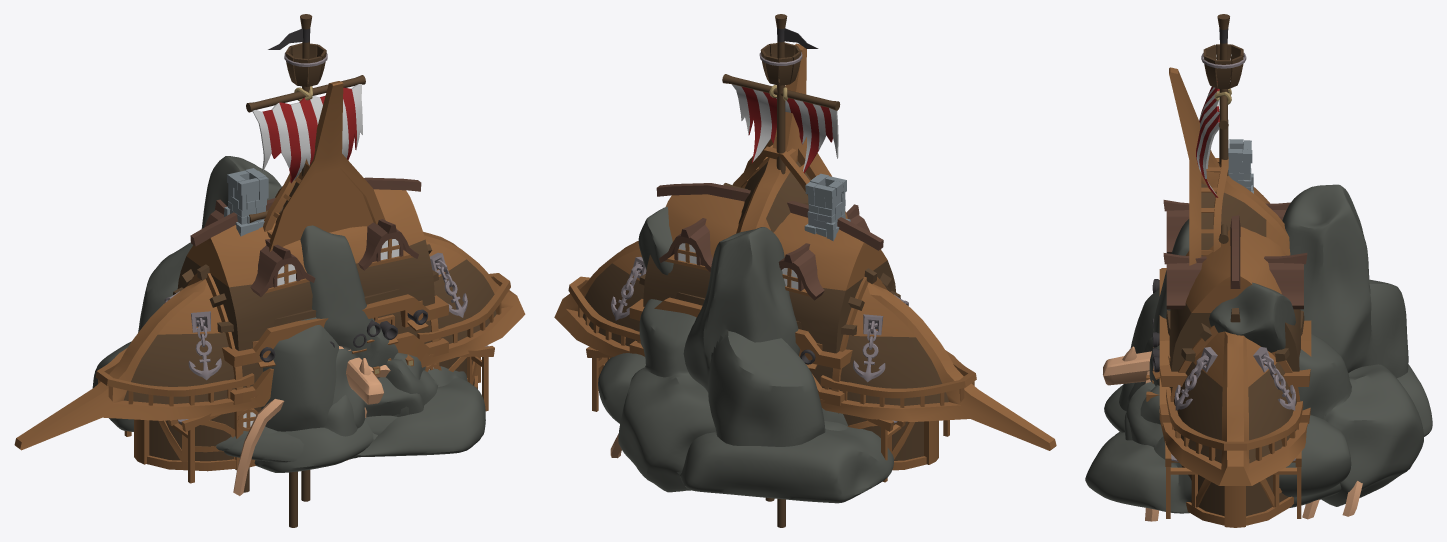
Rendered from qprops.glb.
3 renders of one model, left to right at view 1: azimuth 30°, elevation 25°; view 2: azimuth 150°, elevation 25°; view 3: azimuth 270°, elevation 25°, orthographic. The views are drawn at different scales.
Parts seen in each view (by area): view 1: Environment_House1, Environment_House3, Environment_Cliff2, Environment_Cliff4, Environment_House2, Environment_Cliff3, Environment_Cliff1, Environment_LargeBones; view 2: Environment_Cliff2, Environment_House1, Environment_House3, Environment_House2, Environment_Cliff4; view 3: Environment_House1, Environment_Cliff2, Environment_Cliff4, Environment_House3, Environment_House2, Environment_LargeBones, Environment_Cliff3, Environment_Cliff1.
Part boxes in pixels (x1,y1,x2,y2): Environment_House1: (14, 168, 525, 471); Environment_House3: (124, 14, 494, 483); Environment_Cliff2: (92, 156, 397, 451); Environment_Cliff4: (224, 359, 485, 462); Environment_House2: (263, 81, 385, 251); Environment_Cliff3: (300, 225, 398, 459); Environment_Cliff1: (254, 353, 425, 472); Environment_LargeBones: (233, 357, 390, 495); Environment_Cliff2: (598, 227, 893, 503); Environment_House1: (554, 173, 1056, 470); Environment_House3: (586, 14, 949, 482); Environment_House2: (732, 43, 847, 233); Environment_Cliff4: (638, 206, 847, 430); Environment_House1: (1146, 139, 1311, 527); Environment_Cliff2: (1130, 184, 1432, 506); Environment_Cliff4: (1085, 282, 1295, 513); Environment_House3: (1152, 14, 1310, 518); Environment_House2: (1169, 67, 1290, 265); Environment_LargeBones: (1103, 346, 1362, 521); Environment_Cliff3: (1127, 219, 1341, 507); Environment_Cliff1: (1104, 385, 1160, 440).
Size of the model in its own units: 13.54 by 12.64 by 7.9.
Materials: 2 (1 with a texture image).
